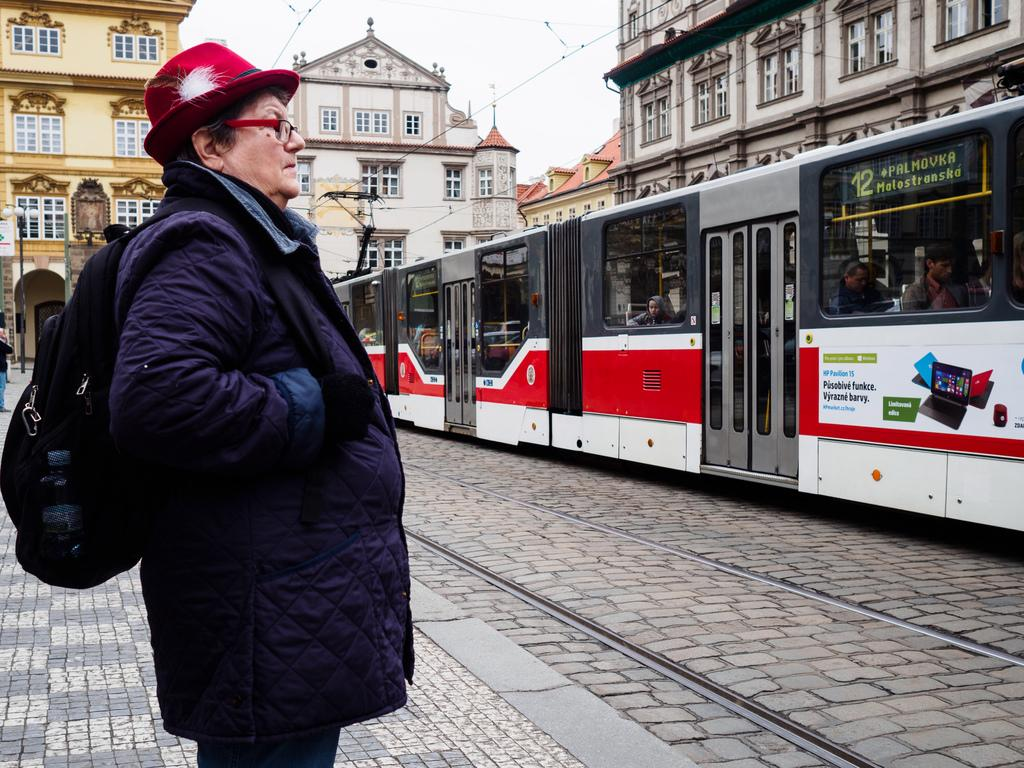Hat: (144, 42, 302, 166)
